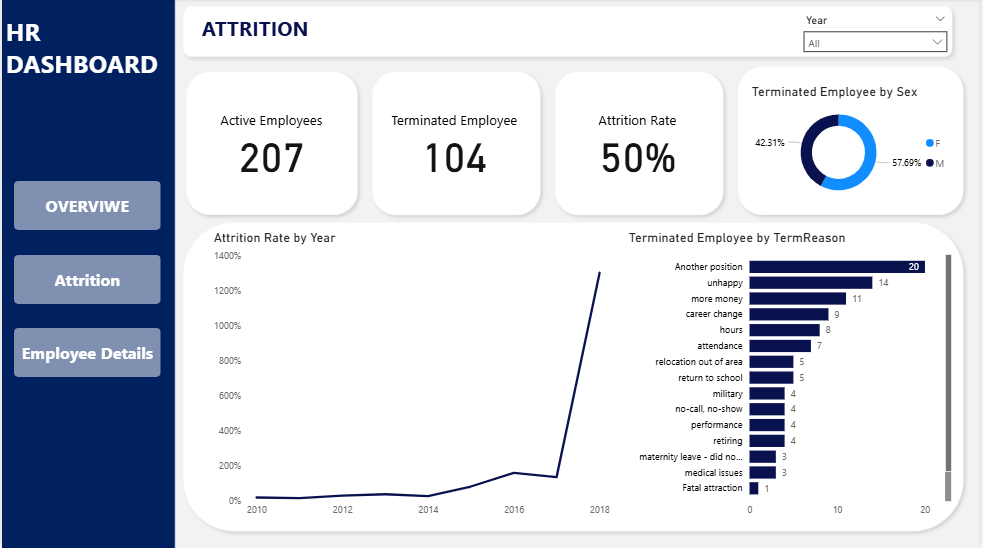

The dashboard page shown, as its layout file describes it:
{"tool":"powerbi","page":{"name":"Attrition","canvas":[1280,720],"ordinal":1},"visuals":[{"type":"slicer","fields":{"Values":["Date Table.Year"]},"box":[1040,16,208,64],"z":0},{"type":"textbox","box":[256,16,384,64],"z":1000},{"type":"cardVisual","fields":{"Data":["_measure.Attrition Rate"]},"box":[736,112,192,160],"z":2000},{"type":"cardVisual","fields":{"Data":["_measure.Terminated Employee"]},"box":[496,112,192,160],"z":3000},{"type":"cardVisual","fields":{"Data":["_measure.Active Employees"]},"box":[256,112,192,160],"z":4000},{"type":"donutChart","fields":{"Category":["HRDataset_v14.Sex"],"Y":["_measure.Terminated Employee"]},"box":[976,112,272,160],"z":5000},{"type":"lineChart","fields":{"Y":["_measure.Attrition Rate"],"Category":["Date Table.Year","Date Table.Month"]},"box":[272,304,528,384],"z":6000},{"type":"clusteredBarChart","fields":{"Y":["_measure.Terminated Employee"],"Category":["HRDataset_v14.TermReason"]},"box":[816,304,432,384],"z":7000},{"type":"textbox","box":[0,16,224,96],"z":9000},{"type":"actionButton","box":[16,240,192,64],"z":9001},{"type":"actionButton","box":[16,336,192,64],"z":9002},{"type":"actionButton","box":[16,432,192,64],"z":9003}]}

Visuals, with their boxes in screenshot pixels (x1, y1, x2, y2), scaled from the page's 1280x720 canvas onto the 983x548 screenshot:
slicer - Date Table.Year: [799, 12, 958, 61]
textbox: [197, 12, 492, 61]
cardVisual - _measure.Attrition Rate: [565, 85, 713, 207]
cardVisual - _measure.Terminated Employee: [381, 85, 528, 207]
cardVisual - _measure.Active Employees: [197, 85, 344, 207]
donutChart - HRDataset_v14.Sex x _measure.Terminated Employee: [750, 85, 958, 207]
lineChart - _measure.Attrition Rate x Date Table.Year: [209, 231, 614, 524]
clusteredBarChart - _measure.Terminated Employee x HRDataset_v14.TermReason: [627, 231, 958, 524]
textbox: [0, 12, 172, 85]
actionButton: [12, 183, 160, 231]
actionButton: [12, 256, 160, 304]
actionButton: [12, 329, 160, 378]
